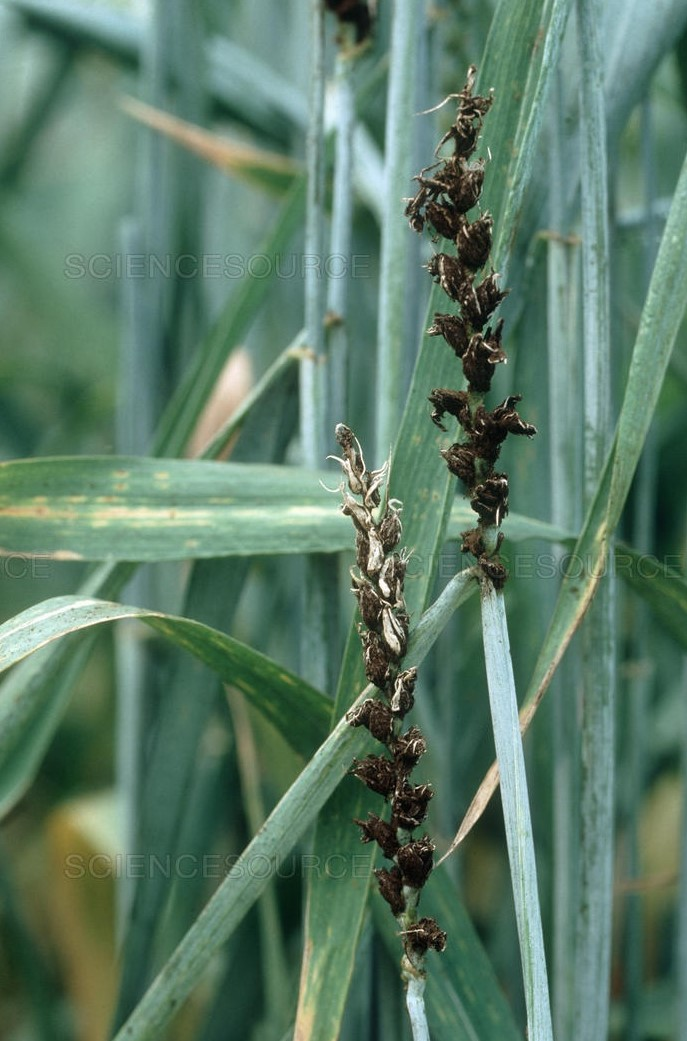Wheat Loose Smut: (304, 75, 569, 975)
